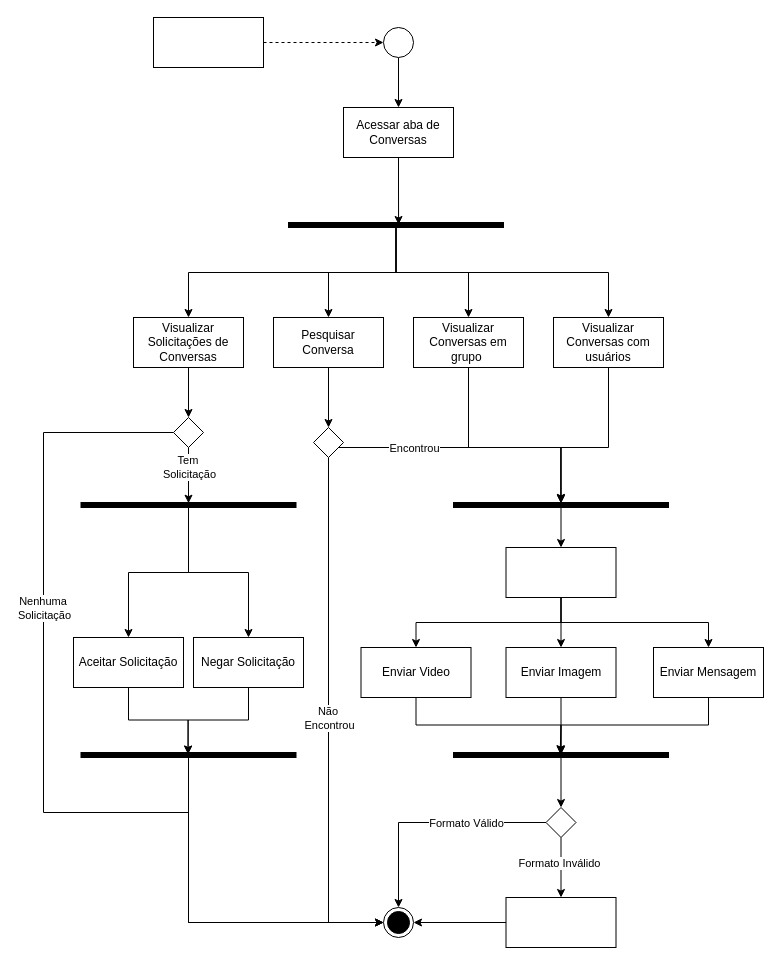
This 781x965 diagram has some shape labels left out. Each missing label, with the centre of its shape:
Acessar Conversa: point (560, 572)
Exibir Mensagem de Erro: point (560, 922)
Usu ário esta logado: point (208, 42)
